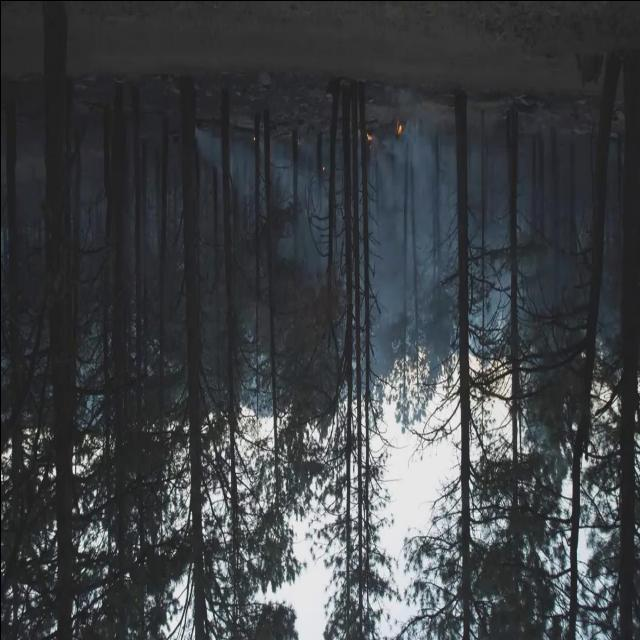Fire: (396, 122, 404, 137), (366, 130, 372, 142)
